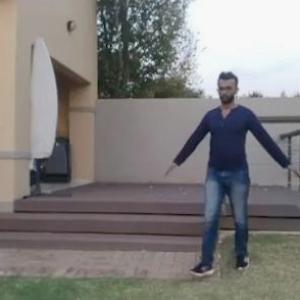land: (164, 71, 300, 280)
